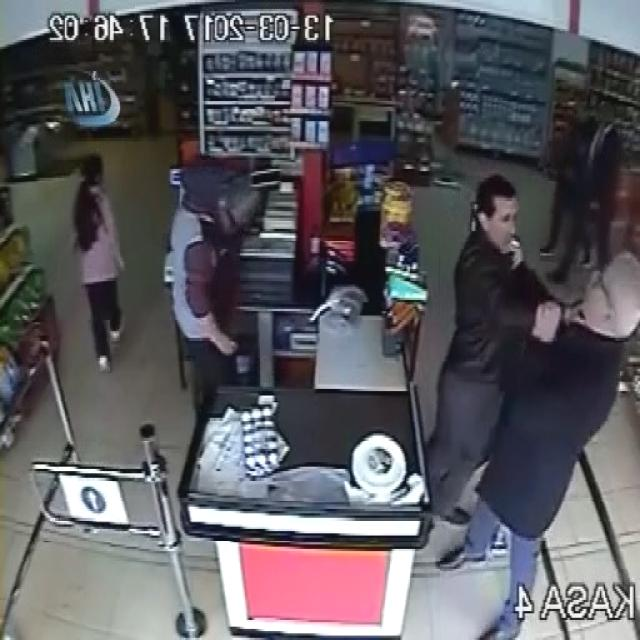fight: (422, 170, 640, 466)
